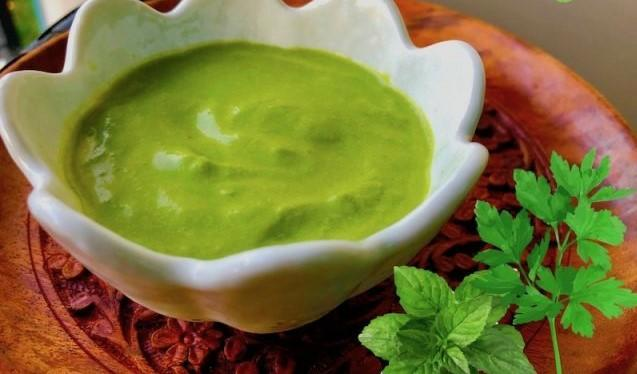GreenChutney: (67, 42, 435, 259)
